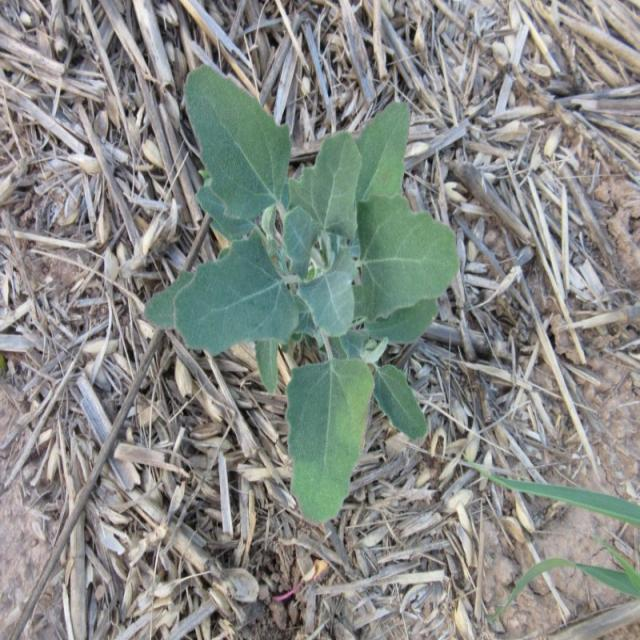ca: (176, 65, 457, 522)
